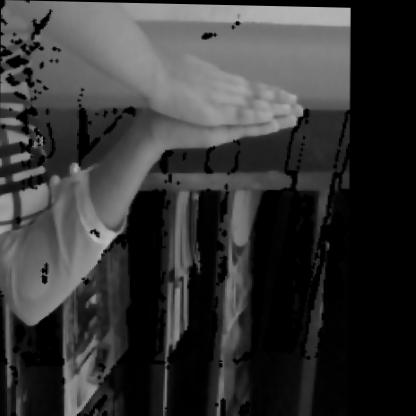namaste: (76, 39, 325, 191)
